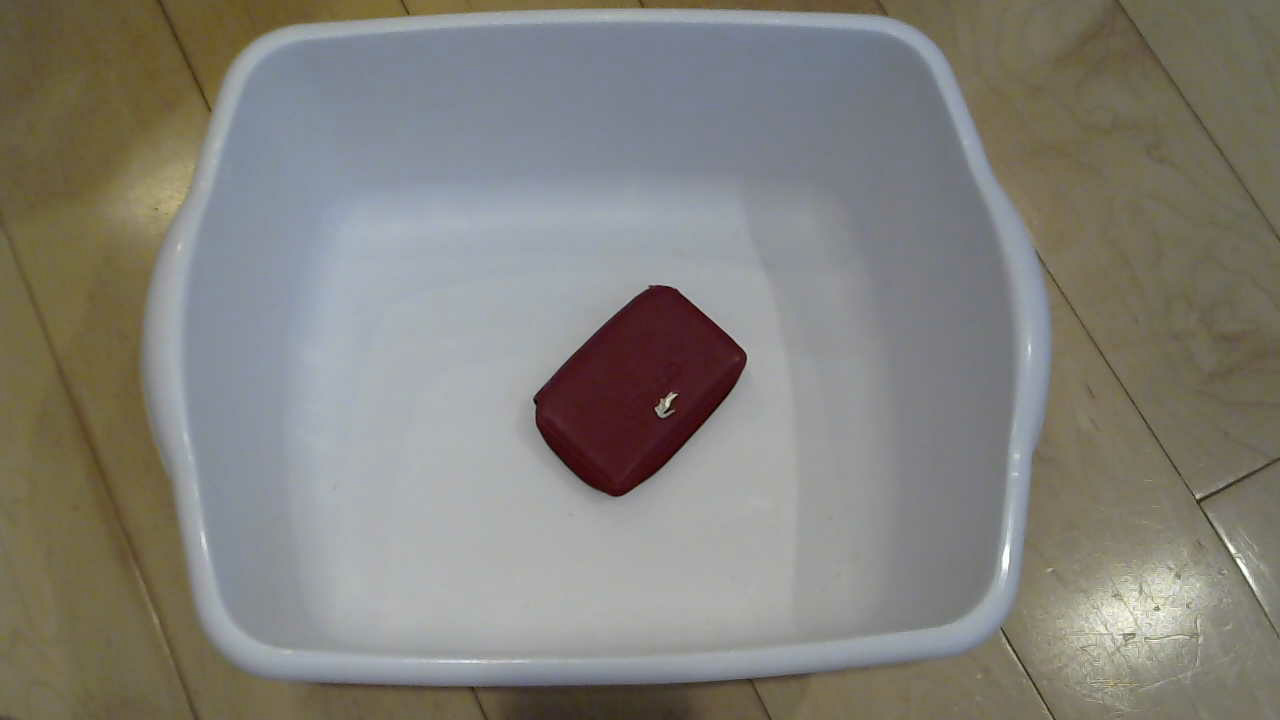wallet: (531, 273, 767, 513)
